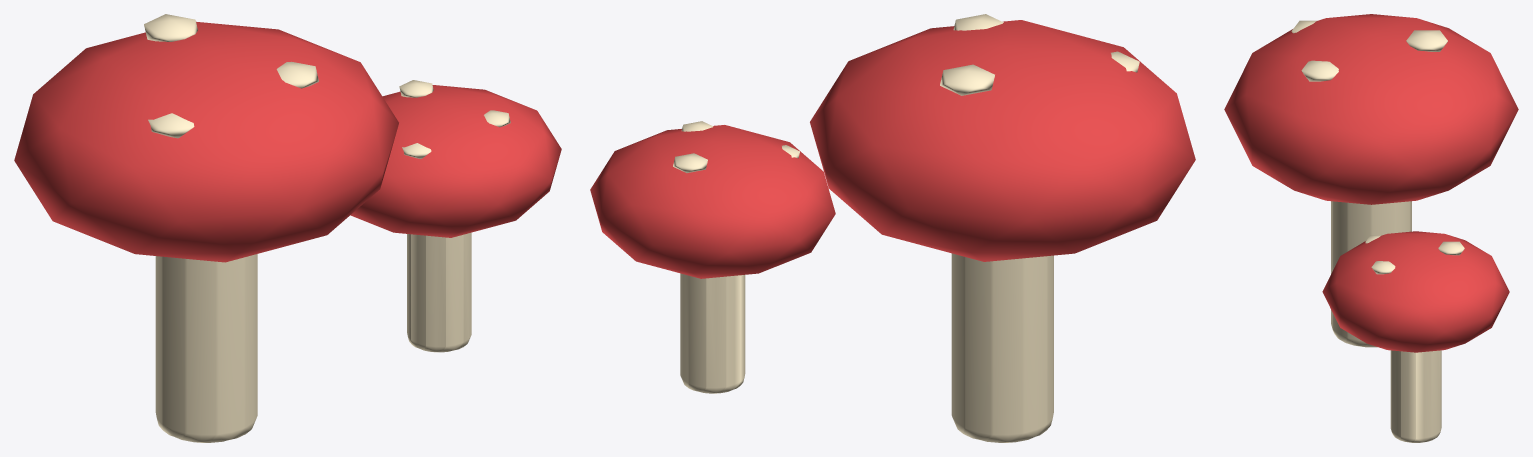
Rendered from Mushroom_Cluster.glb.
3 views of the same model, side by side, from view 1: azimuth 30°, elevation 25°; view 2: azimuth 150°, elevation 25°; view 3: azimuth 270°, elevation 25° (orthographic). The views are drawn at different scales.
Visible parts, largest first — view 1: Mushroom_Cluster__Mushrooms; view 2: Mushroom_Cluster__Mushrooms; view 3: Mushroom_Cluster__Mushrooms.
Boxes of the visible parts, x1,y1,x2,y2 form: Mushroom_Cluster__Mushrooms: [14, 14, 561, 442]; Mushroom_Cluster__Mushrooms: [590, 14, 1195, 442]; Mushroom_Cluster__Mushrooms: [1224, 14, 1518, 442].
Size of the model in its own units: 1.62 by 1.12 by 0.99.
